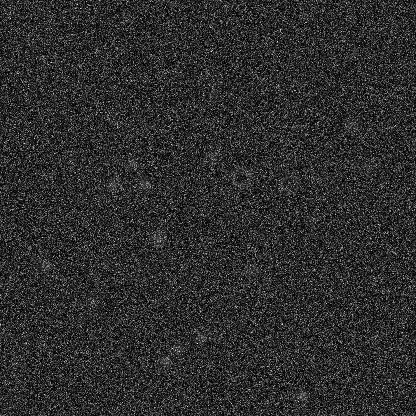Ring: (277, 171, 301, 195), (228, 164, 252, 188)
Spot: (360, 157, 376, 173), (204, 148, 220, 164), (83, 293, 99, 309), (136, 175, 152, 191), (305, 211, 321, 227), (193, 329, 209, 345), (205, 84, 221, 100), (157, 352, 173, 368), (169, 340, 185, 356), (124, 154, 140, 170), (104, 176, 120, 192), (319, 154, 335, 170), (150, 230, 166, 246), (108, 255, 124, 271), (293, 388, 309, 404), (8, 355, 24, 371), (36, 257, 52, 273), (343, 116, 359, 132), (256, 275, 272, 291), (242, 262, 258, 278)
